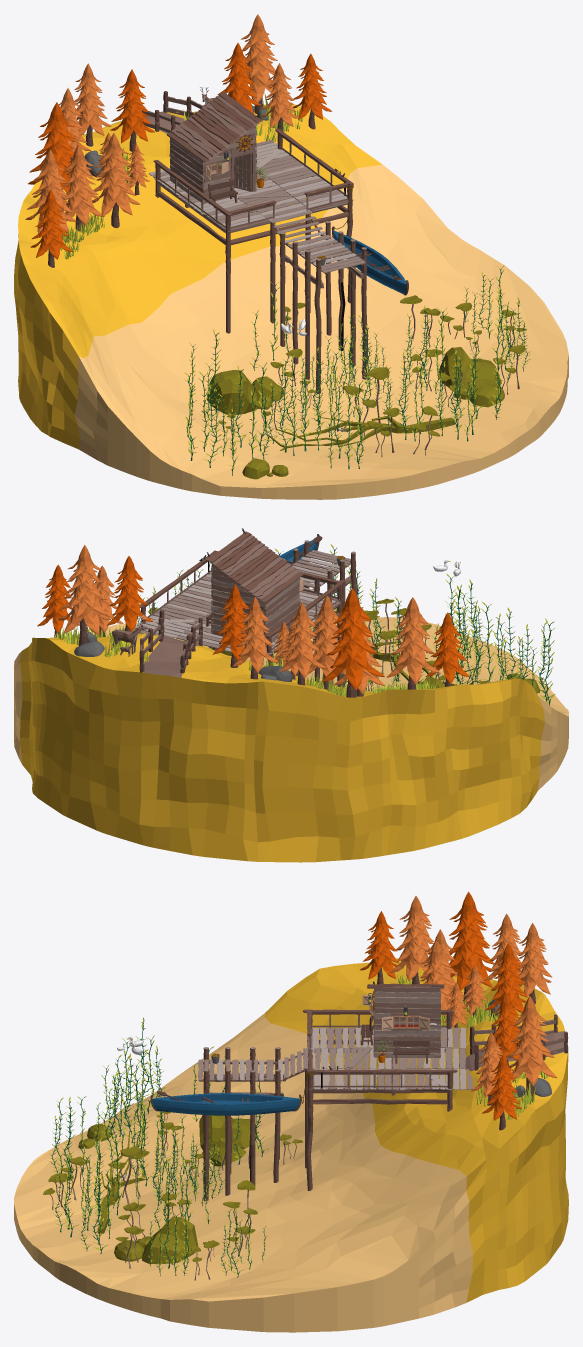
File: lake.glb
3 renders of one model, top to bottom at view 1: azimuth 30°, elevation 25°; view 2: azimuth 150°, elevation 25°; view 3: azimuth 270°, elevation 25°, orthographic. The views are drawn at different scales.
Parts seen in each view (by area): view 1: LAND, Cube.002, Rudder, SeaGrass, Rockss, Plants, SeaGrass_Material.006_0.001, SeaGrass_Material.006_0.004, Tree.014, SeaGrass_Material.006_0.002, SeaGrass_Material.006_0.003, Tree.006 (+15 smaller); view 2: LAND, Cube.002, Rudder, Tree.013, SeaGrass, Tree.006, Tree.017, Grass, Tree.012, Tree.009, Tree.011, Tree.014 (+12 smaller); view 3: LAND, Cube.002, SeaGrass, Rudder, Rockss, Plants, Rope, SeaGrass_Material.006_0.001, Tree.013, Tree.006, SeaGrass_Material.006_0.004, Tree.017 (+15 smaller).
Boxes of the visible parts, <box> form: LAND: <box>14,104,568,499</box>; Cube.002: <box>149,128,368,393</box>; Rudder: <box>166,92,262,204</box>; SeaGrass: <box>186,283,529,475</box>; Rockss: <box>207,347,504,479</box>; Plants: <box>219,295,526,456</box>; SeaGrass_Material.006_0.001: <box>213,267,516,459</box>; SeaGrass_Material.006_0.004: <box>334,305,530,468</box>; Tree.014: <box>92,132,140,228</box>; SeaGrass_Material.006_0.002: <box>184,271,500,469</box>; SeaGrass_Material.006_0.003: <box>188,265,527,419</box>; Tree.006: <box>241,14,277,114</box>; LAND: <box>14,617,568,862</box>; Cube.002: <box>132,540,357,686</box>; Rudder: <box>207,531,303,646</box>; Tree.013: <box>322,588,384,697</box>; SeaGrass: <box>178,546,552,705</box>; Tree.006: <box>58,545,110,645</box>; Tree.017: <box>387,597,440,689</box>; Grass: <box>55,622,437,696</box>; Tree.012: <box>279,602,325,685</box>; Tree.009: <box>232,597,279,679</box>; Tree.011: <box>106,556,153,631</box>; Tree.014: <box>308,595,342,689</box>; LAND: <box>14,958,568,1332</box>; Cube.002: <box>198,1009,472,1201</box>; SeaGrass: <box>50,1020,266,1275</box>; Rudder: <box>362,983,444,1058</box>; Rockss: <box>78,1115,257,1264</box>; Plants: <box>43,1111,302,1280</box>; Rope: <box>150,1072,314,1115</box>; SeaGrass_Material.006_0.001: <box>80,1052,265,1277</box>; Tree.013: <box>449,891,493,1002</box>; Tree.006: <box>505,996,557,1096</box>; SeaGrass_Material.006_0.004: <box>49,1096,210,1272</box>; Tree.017: <box>389,896,434,984</box>.
Size of the model in its own units: 25.36 by 13.35 by 25.63.
21 materials, 18 textured.
